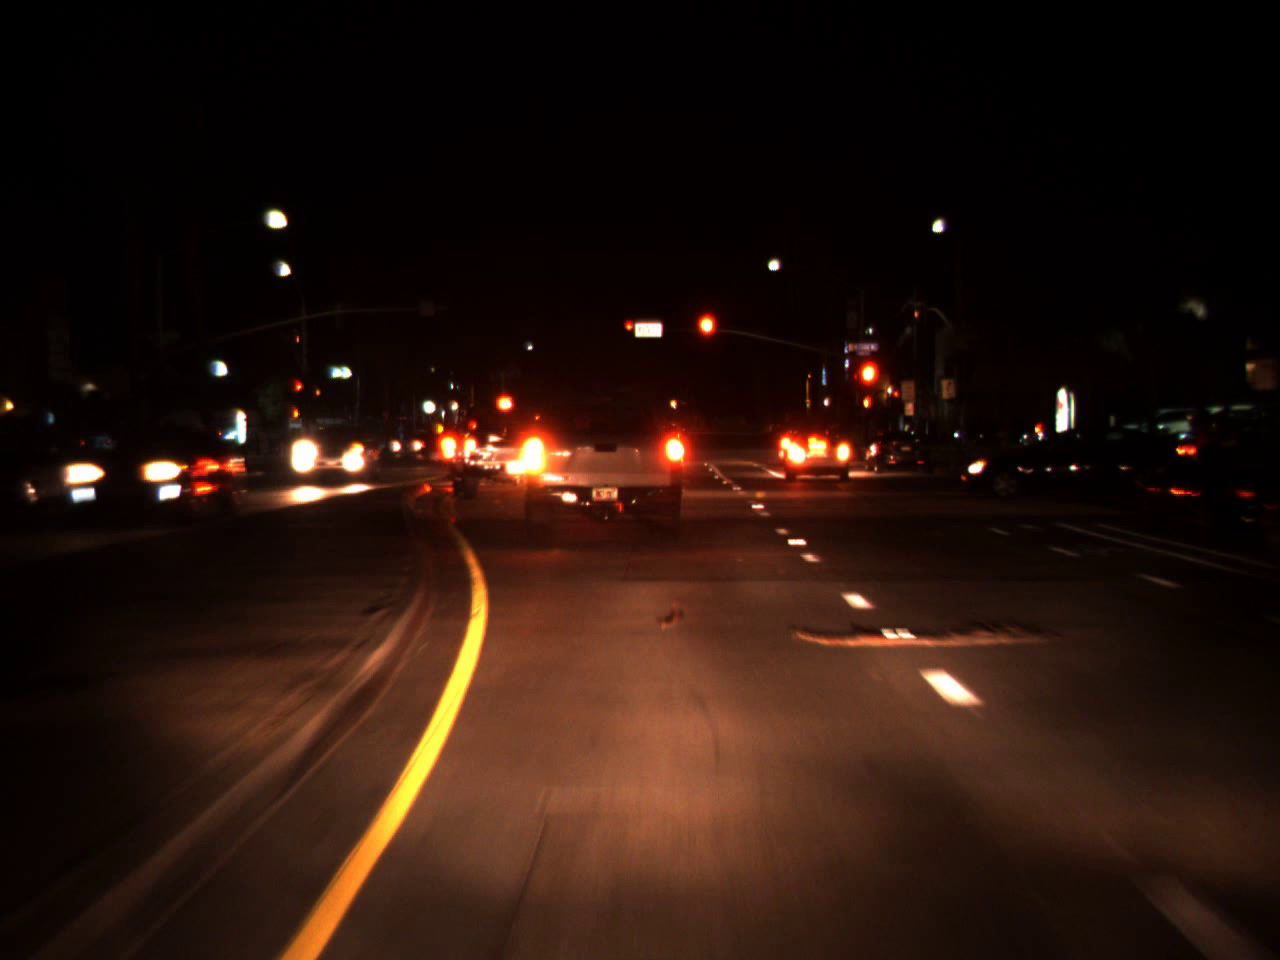stop: (855, 356, 883, 418), (693, 308, 718, 364), (624, 320, 636, 341), (294, 380, 303, 401)
